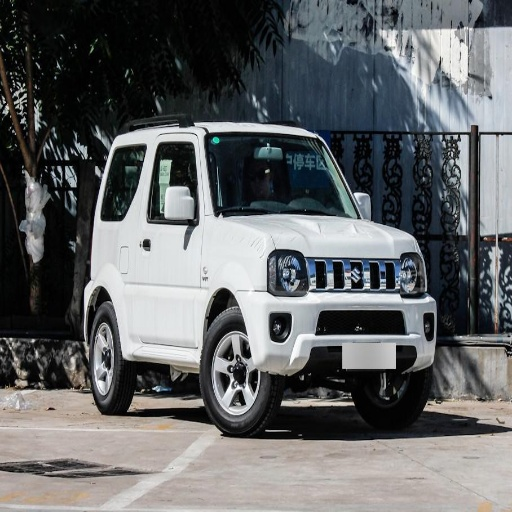front_bumper: (243, 252, 436, 374)
front_left_light: (398, 250, 428, 296)
front_right_door: (142, 137, 201, 347)
front_right_light: (267, 250, 312, 296)
hood: (230, 217, 416, 258)
